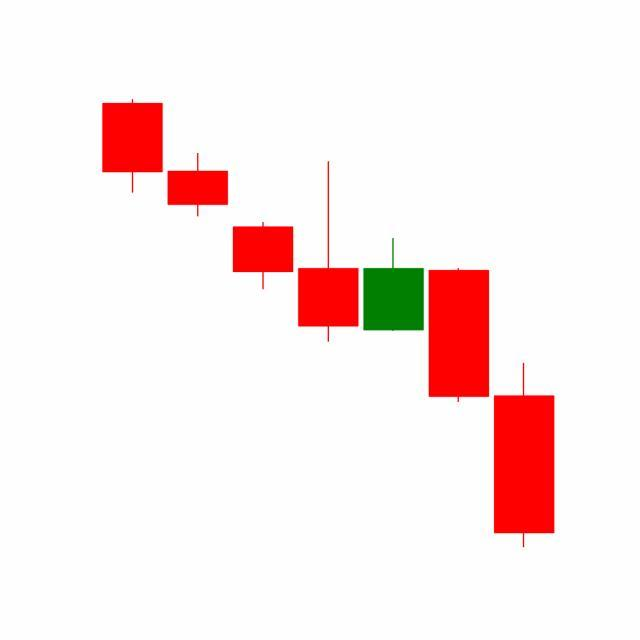Hikkake Pattern: (165, 150, 492, 406)
